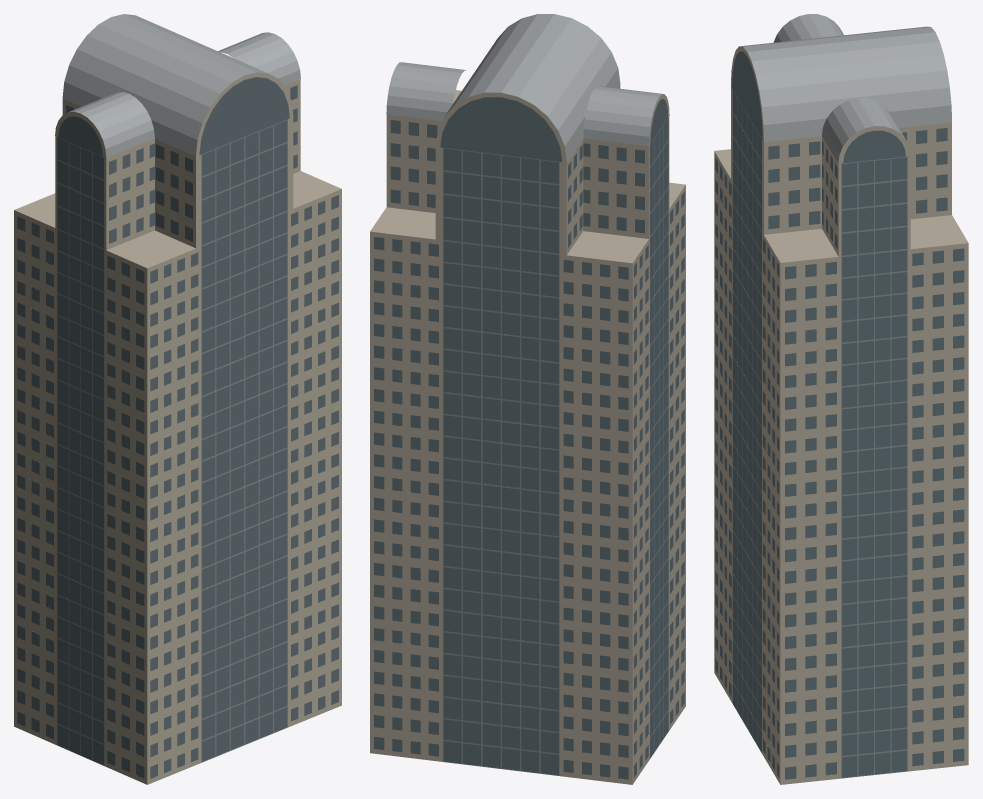
File: comerica-bank-tower-far.glb
The picture shows the model from 3 angles, left to right: view 1: azimuth 30°, elevation 25°; view 2: azimuth 150°, elevation 25°; view 3: azimuth 270°, elevation 25°; orthographic projection.
Parts seen in each view (by area): view 1: comerica-bank-tower-0-glass, comerica-bank-tower-0-stone, comerica-bank-tower-0-roof, comerica-bank-tower-0-metal; view 2: comerica-bank-tower-0-glass, comerica-bank-tower-0-stone, comerica-bank-tower-0-roof, comerica-bank-tower-0-metal; view 3: comerica-bank-tower-0-glass, comerica-bank-tower-0-stone, comerica-bank-tower-0-roof, comerica-bank-tower-0-metal.
Boxes of the visible parts, x1,y1,x2,y2 form: comerica-bank-tower-0-glass: (17, 77, 338, 778); comerica-bank-tower-0-stone: (14, 72, 341, 784); comerica-bank-tower-0-roof: (62, 14, 300, 157); comerica-bank-tower-0-metal: (57, 119, 287, 765); comerica-bank-tower-0-glass: (374, 97, 684, 779); comerica-bank-tower-0-stone: (370, 84, 685, 784); comerica-bank-tower-0-roof: (386, 14, 663, 162); comerica-bank-tower-0-metal: (443, 117, 668, 775); comerica-bank-tower-0-glass: (715, 51, 964, 779); comerica-bank-tower-0-stone: (714, 46, 968, 784); comerica-bank-tower-0-roof: (740, 14, 951, 163); comerica-bank-tower-0-metal: (732, 89, 907, 778).
Size of the model in its own units: 100 by 240 by 81.69.
